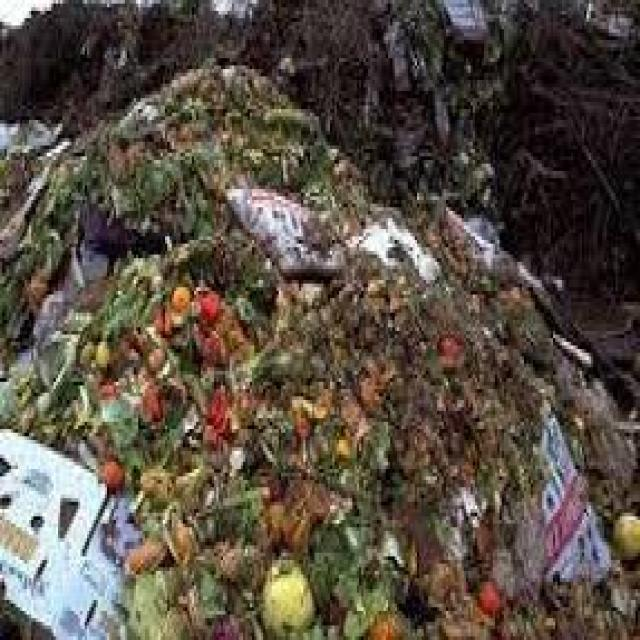food_waste: (93, 226, 599, 601), (112, 259, 534, 485)
